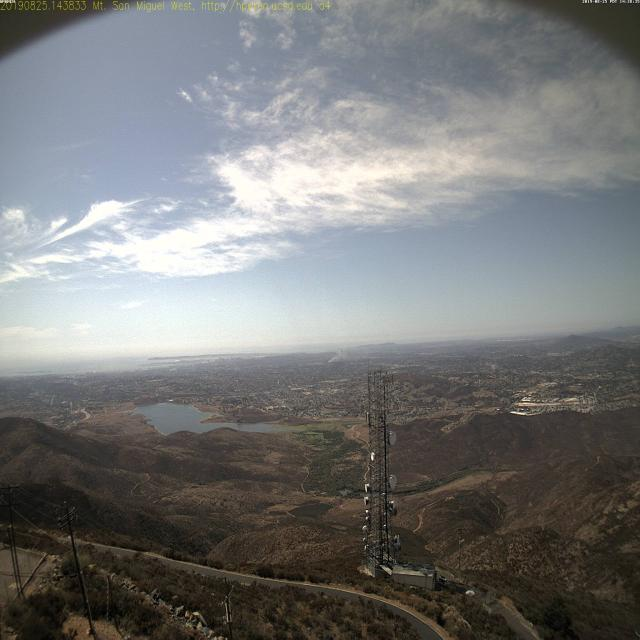smoke: (322, 340, 348, 368)
